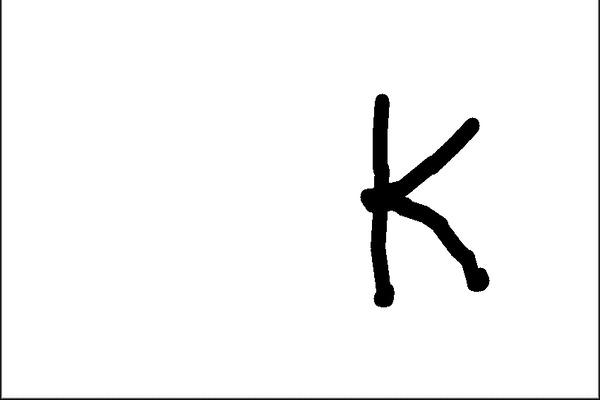K: (356, 83, 500, 318)
